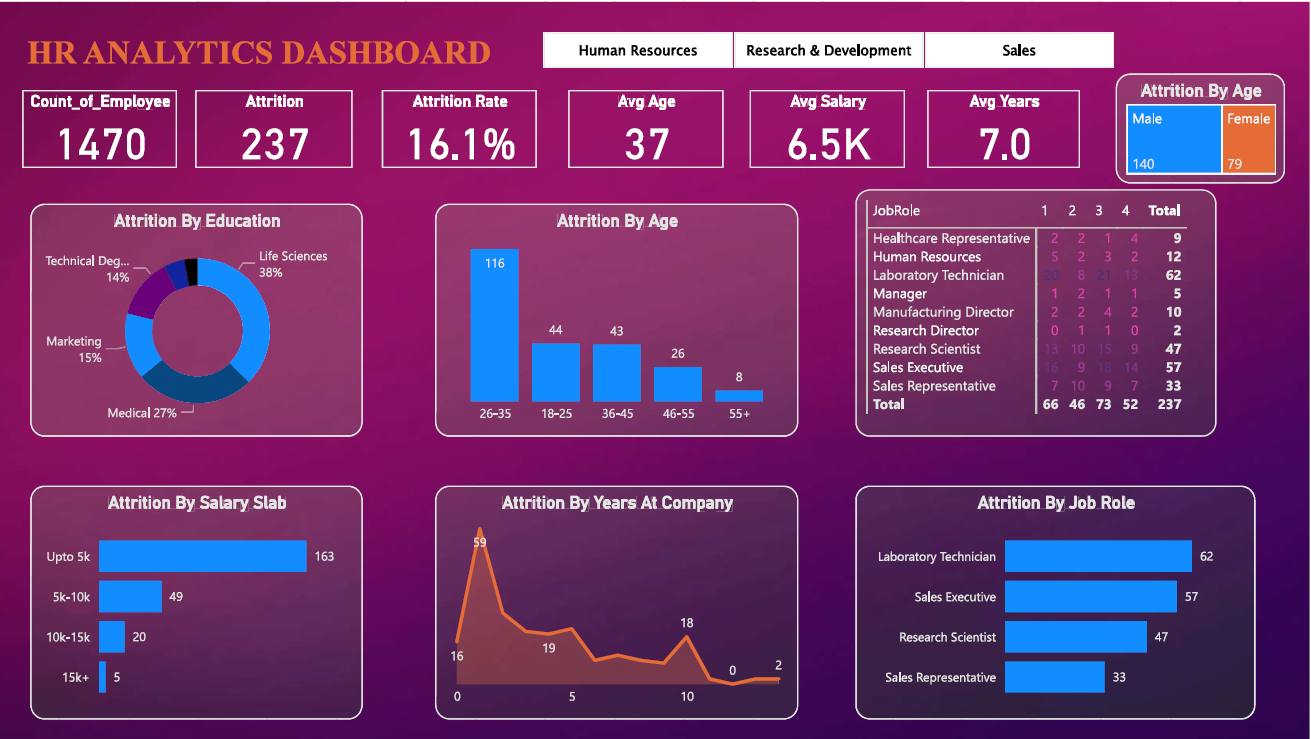

What the dashboard file says about the page in this screenshot:
{"tool":"powerbi","page":{"name":"HR_Analytics","canvas":[1280,720],"ordinal":0},"visuals":[{"type":"card","title":"Avg Salary","fields":{"Values":["Avg(HR_Analytics.MonthlyIncome)"]},"box":[733.9,85.8,151.4,75.7],"z":0},{"type":"card","title":"Attrition Rate","fields":{"Values":["HR_Analytics.Attrition_Rate"]},"box":[375,85.8,151.4,75.7],"z":1000},{"type":"card","title":"Avg Age","fields":{"Values":["Avg(HR_Analytics.Age)"]},"box":[556.7,85.8,151.4,75.7],"z":2000},{"type":"card","title":"Count_of_Employee","fields":{"Values":["CountNonNull(HR_Analytics.EmpID)"]},"box":[23.7,85.8,151.4,75.7],"z":3000},{"type":"card","title":"Attrition","fields":{"Values":["Sum(HR_Analytics.Attrition_Count)"]},"box":[193.3,85.8,152.9,75.7],"z":4000},{"type":"card","title":"Avg Years","fields":{"Values":["Avg(HR_Analytics.YearsAtCompany)"]},"box":[906.5,85.8,149.9,75.7],"z":5000},{"type":"donutChart","title":"Attrition By Education","fields":{"Category":["HR_Analytics.EducationField"],"Y":["Sum(HR_Analytics.Attrition_Count)"]},"box":[31.8,196.8,324,227.1],"z":6000},{"type":"columnChart","title":"Attrition By Age","fields":{"Category":["HR_Analytics.AgeGroup"],"Y":["Sum(HR_Analytics.Attrition_Count)"]},"box":[427,196.8,354.3,227.1],"z":7000},{"type":"pivotTable","fields":{"Rows":["HR_Analytics.JobRole"],"Columns":["HR_Analytics.JobSatisfaction"],"Values":["Sum(HR_Analytics.Attrition_Count)"]},"box":[837.4,183.2,351.3,240.8],"z":8000},{"type":"barChart","title":"Attrition By Salary Slab","fields":{"Category":["HR_Analytics.SalarySlab"],"Y":["Sum(HR_Analytics.Attrition_Count)"]},"box":[31.8,472.4,324,227.1],"z":9000},{"type":"barChart","title":"Attrition By Job Role","fields":{"Y":["Sum(HR_Analytics.Attrition_Count)"],"Category":["HR_Analytics.JobRole"]},"box":[837.4,472.4,389.2,227.1],"z":10000},{"type":"areaChart","title":"Attrition By Years At Company","fields":{"Category":["HR_Analytics.YearsAtCompany"],"Y":["Sum(HR_Analytics.Attrition_Count)"]},"box":[427,472.4,354.3,227.1],"z":11000},{"type":"treemap","title":"Attrition By Age","fields":{"Values":["Sum(HR_Analytics.Attrition_Count)"],"Group":["HR_Analytics.Gender"]},"box":[1091.4,70,164.3,107.1],"z":12000},{"type":"slicer","fields":{"Values":["HR_Analytics.Department"]},"box":[507.3,9.1,605.7,62.1],"z":13000},{"type":"textbox","box":[24.2,25.7,522.4,51.5],"z":14000}]}

Visuals, with their boxes in screenshot pixels (x1, y1, x2, y2), scaled from the page's 1280x720 canvas onto the 1311x739 screenshot:
"Avg Salary" card: (752,88,907,166)
"Attrition Rate" card: (384,88,539,166)
"Avg Age" card: (570,88,725,166)
"Count_of_Employee" card: (24,88,179,166)
"Attrition" card: (198,88,355,166)
"Avg Years" card: (928,88,1082,166)
"Attrition By Education" donutChart: (33,202,364,435)
"Attrition By Age" columnChart: (437,202,800,435)
pivotTable - HR_Analytics.JobRole x HR_Analytics.JobSatisfaction: (858,188,1217,435)
"Attrition By Salary Slab" barChart: (33,485,364,718)
"Attrition By Job Role" barChart: (858,485,1256,718)
"Attrition By Years At Company" areaChart: (437,485,800,718)
"Attrition By Age" treemap: (1118,72,1286,182)
slicer - HR_Analytics.Department: (520,9,1140,73)
textbox: (25,26,560,79)
